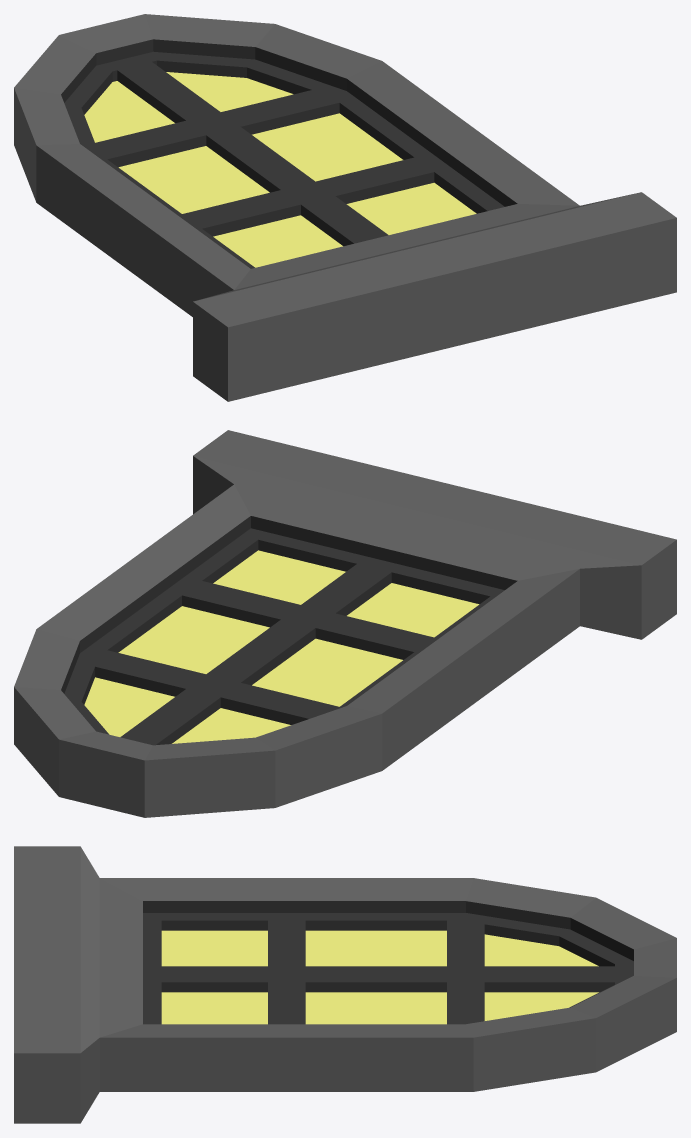
File: Ventana.fbx
3 renders of one model, top to bottom at view 1: azimuth 30°, elevation 25°; view 2: azimuth 150°, elevation 25°; view 3: azimuth 270°, elevation 25°, orthographic. The views are drawn at different scales.
Parts seen in each view (by area): view 1: Cube; view 2: Cube; view 3: Cube.
Part boxes in pixels (box(x1,y1,x2,y2)): Cube: box(14, 14, 676, 401); Cube: box(14, 430, 676, 817); Cube: box(14, 846, 676, 1123).
Size of the model in its own units: 260 by 41.21 by 351.
